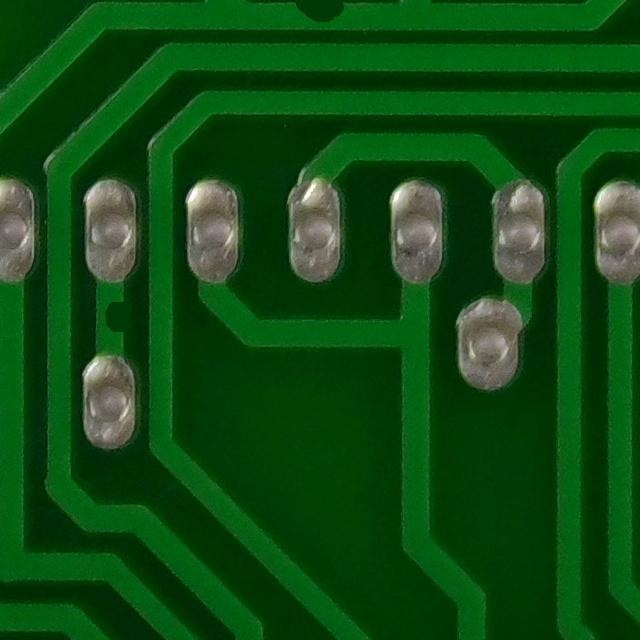mouse_bite: (274, 0, 361, 39), (80, 292, 140, 341)
